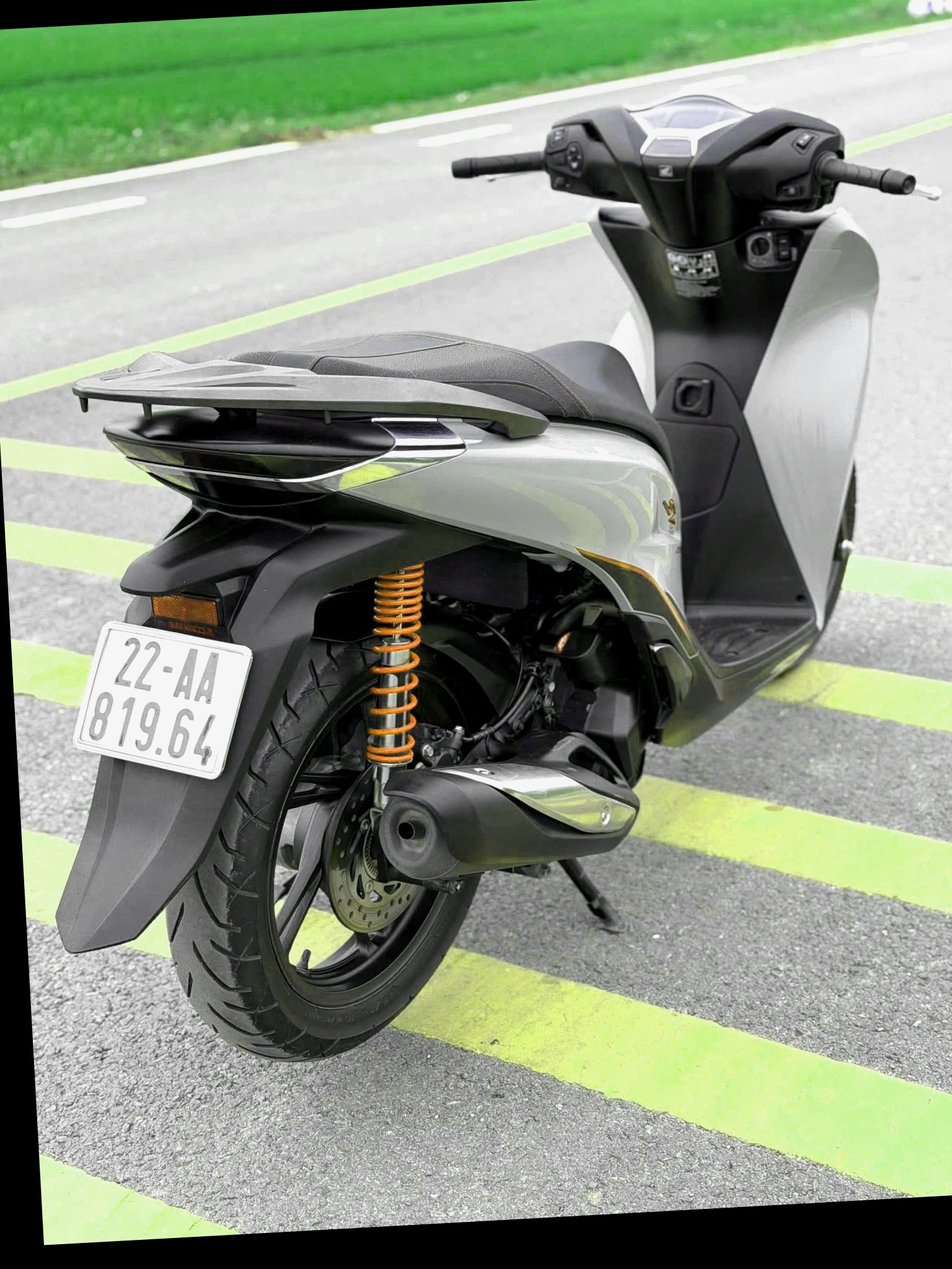Bien-so: (62, 607, 268, 785)
